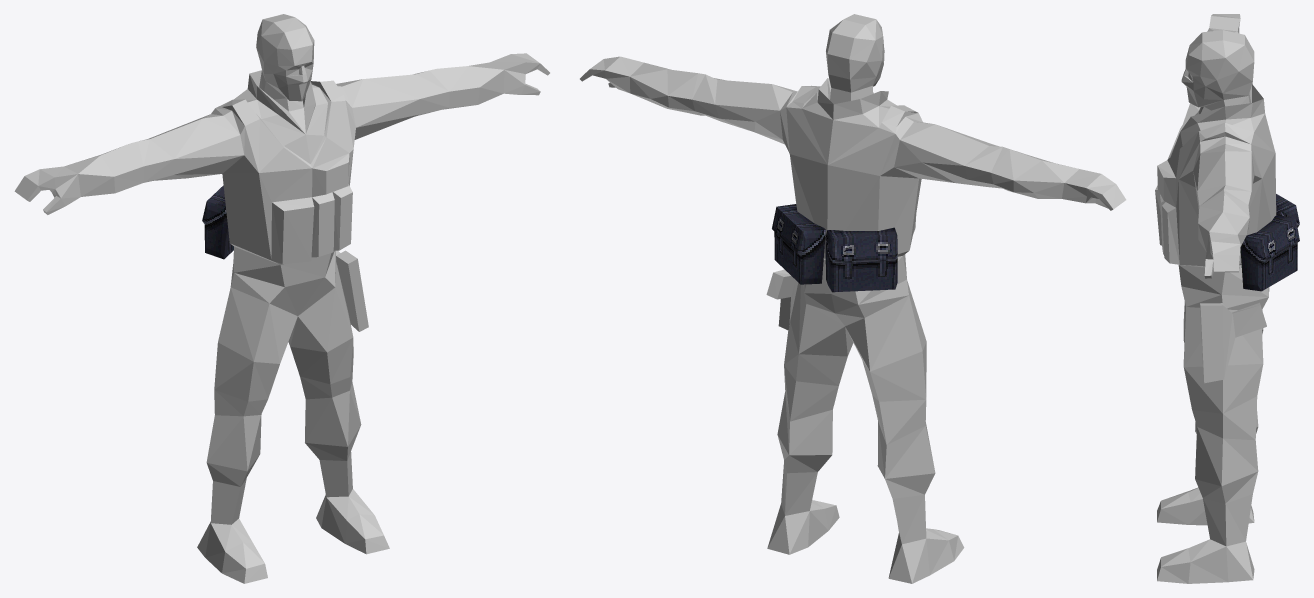
Rendered from COUNTER-TERRORIST_GIGN.obj.
The picture shows the model from 3 angles, left to right: view 1: azimuth 30°, elevation 25°; view 2: azimuth 150°, elevation 25°; view 3: azimuth 270°, elevation 25°; orthographic projection. The views are drawn at different scales.
Parts seen in each view (by area): view 1: GIGN_DMBASE2.bmp_GIGN, Backpack2.BMP_Backpack2.png; view 2: GIGN_DMBASE2.bmp_GIGN, Backpack2.BMP_Backpack2.png; view 3: GIGN_DMBASE2.bmp_GIGN, Backpack2.BMP_Backpack2.png.
Boxes of the visible parts, x1=… form: GIGN_DMBASE2.bmp_GIGN: x1=14, y1=14, x2=549, y2=583; Backpack2.BMP_Backpack2.png: x1=202, y1=185, x2=233, y2=259; GIGN_DMBASE2.bmp_GIGN: x1=580, y1=14, x2=1126, y2=583; Backpack2.BMP_Backpack2.png: x1=772, y1=204, x2=897, y2=292; GIGN_DMBASE2.bmp_GIGN: x1=1155, y1=14, x2=1276, y2=583; Backpack2.BMP_Backpack2.png: x1=1240, y1=194, x2=1299, y2=291.
Size of the model in its own units: 1.82 by 1.73 by 0.4447.
